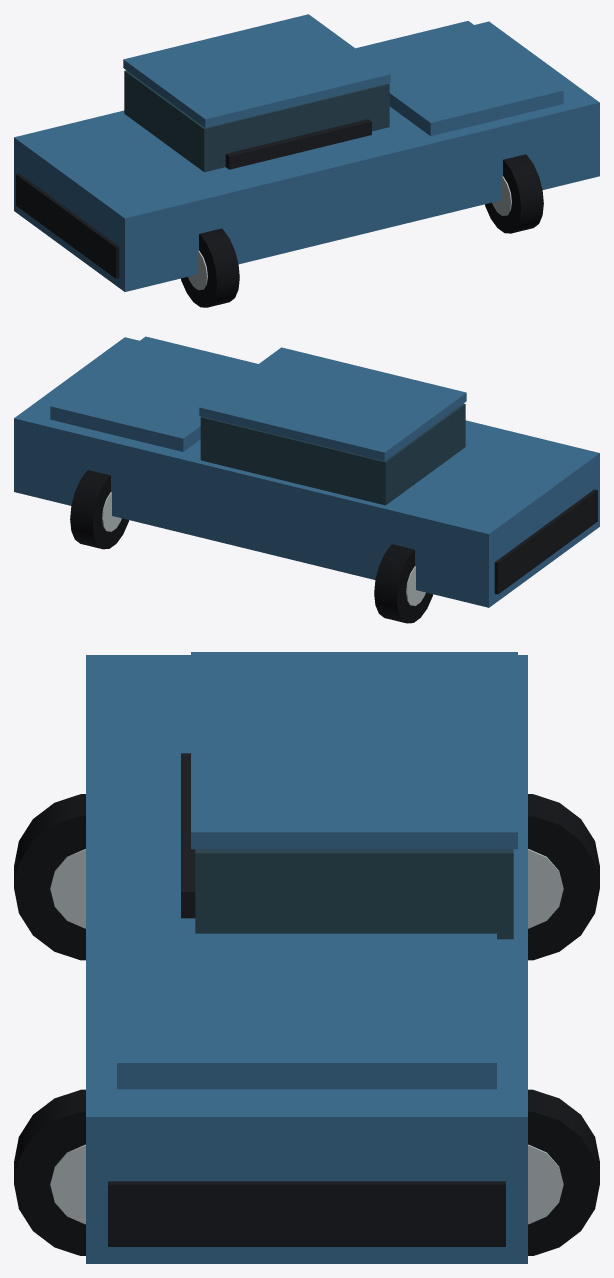
Rendered from chevy_metro.glb.
3 views of the same model, one above another, from view 1: azimuth 30°, elevation 25°; view 2: azimuth 150°, elevation 25°; view 3: azimuth 270°, elevation 25° (orthographic). The views are drawn at different scales.
Visible parts, largest first — view 1: body, roof, hood, cabin, rear_bumper, front_right_wheel, rear_right_wheel, interior; view 2: body, roof, hood, cabin, rear_bumper, front_left_wheel, rear_left_wheel; view 3: body, roof, hood, cabin, front_bumper, rear_left_wheel, rear_right_wheel, front_left_wheel, front_right_wheel, interior.
Boxes of the visible parts, x1,y1,x2,y2 form: body: (14,21,599,291); roof: (123,14,390,127); hood: (356,21,563,136); cabin: (124,70,389,172); rear_bumper: (16,173,119,278); front_right_wheel: (485,154,543,233); rear_right_wheel: (181,228,239,307); interior: (225,119,371,169); body: (14,337,599,607); roof: (199,347,466,461); hood: (50,336,258,451); cabin: (200,403,465,505); rear_bumper: (494,489,597,594); front_left_wheel: (70,470,128,549); rear_left_wheel: (374,544,432,623); body: (86,655,527,1263); roof: (191,652,517,849); hood: (117,933,496,1089); cabin: (195,849,513,939); front_bumper: (108,1181,505,1246); rear_left_wheel: (528,794,599,960); rear_right_wheel: (14,794,85,960); front_left_wheel: (528,1089,599,1255); front_right_wheel: (14,1089,85,1255); interior: (181,753,195,918).
Bounding box in the file's own units: 4.67 × 1.48 × 2.47.
